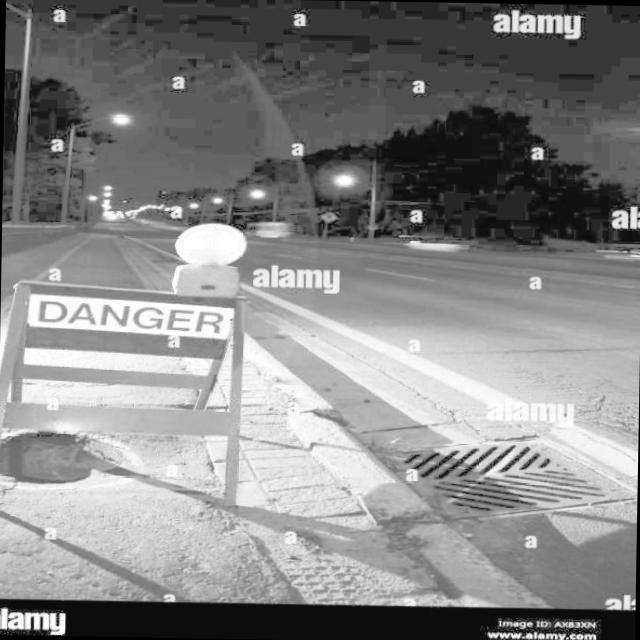Pothole: (0, 419, 140, 508)
